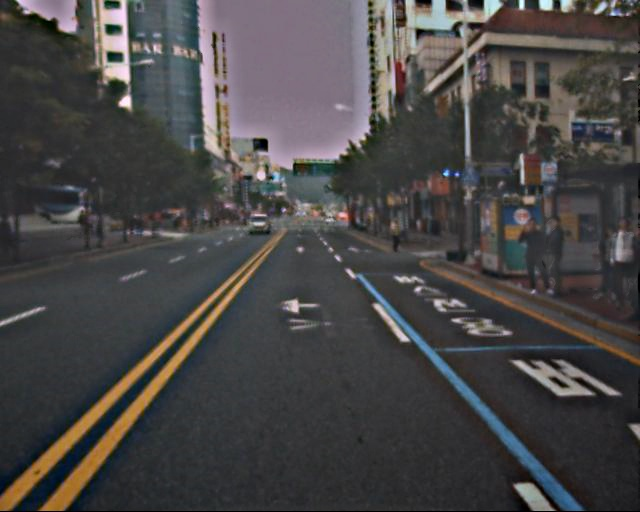person: (595, 217, 640, 325), (534, 217, 574, 300), (517, 219, 552, 298), (388, 216, 404, 257)
